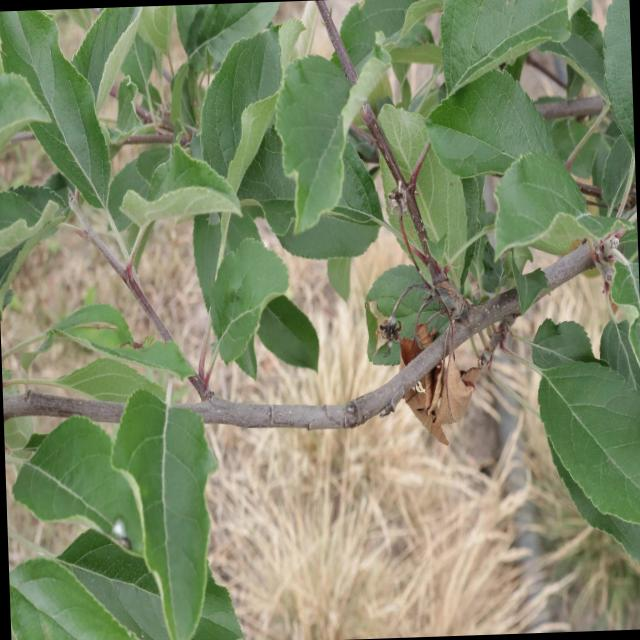-FireBlight-: (398, 312, 482, 448)
